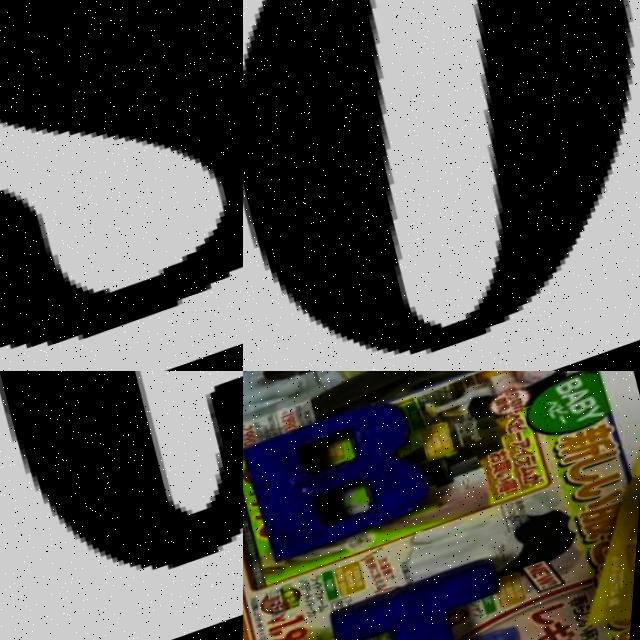B: (243, 392, 445, 566)
C: (4, 371, 243, 575)
O: (243, 0, 640, 357)
S: (0, 0, 243, 371)
T: (327, 559, 533, 640)
